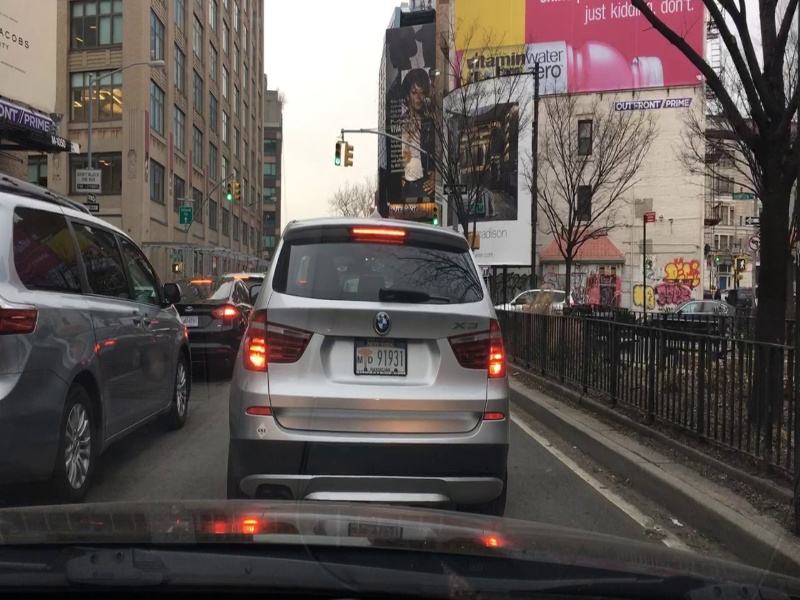car: (231, 211, 524, 516), (5, 183, 187, 499), (167, 247, 240, 373), (496, 281, 578, 313)
